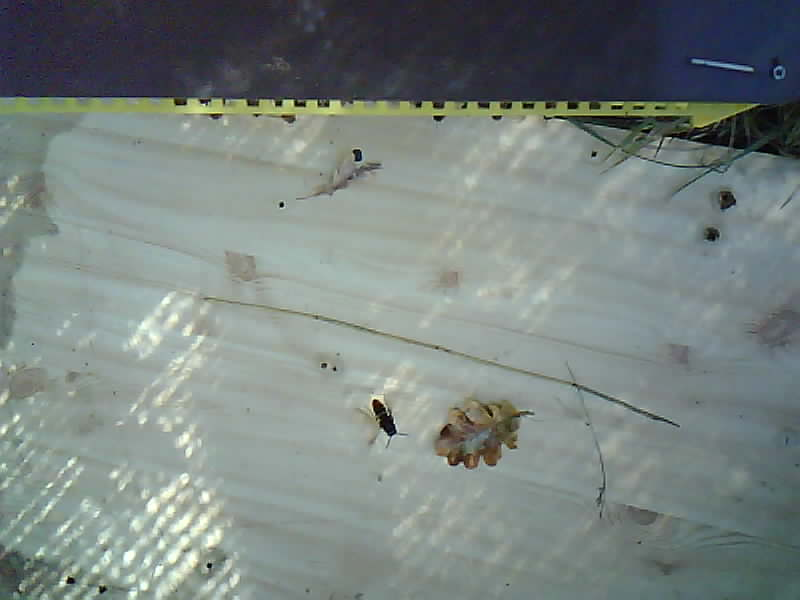hornet: (366, 391, 401, 440)
